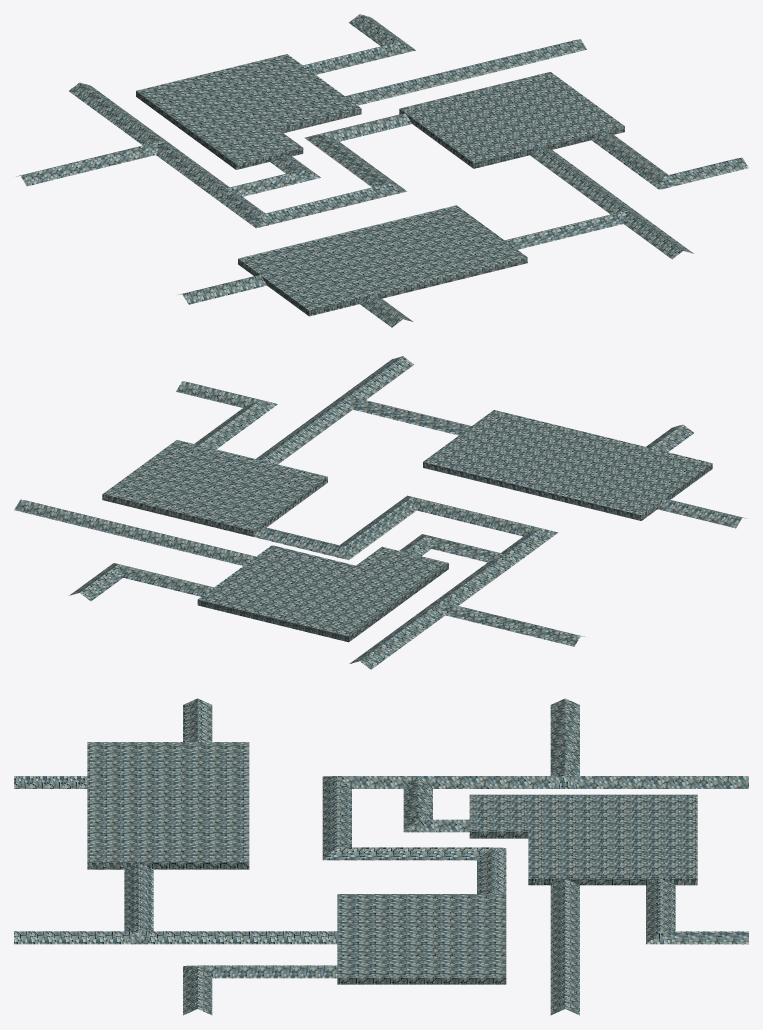
3 views of the same model, one above another, from view 1: azimuth 30°, elevation 25°; view 2: azimuth 150°, elevation 25°; view 3: azimuth 270°, elevation 25° (orthographic). The views are drawn at different scales.
Visible parts, largest first — view 1: Plane.001; view 2: Plane.001; view 3: Plane.001.
Part boxes in pixels (x1,y1,x2,y2): Plane.001: [16, 14, 748, 327]; Plane.001: [14, 356, 746, 669]; Plane.001: [14, 698, 748, 1015].
Size of the model in its own units: 100 by 1 by 100.
1 material, 1 textured.
